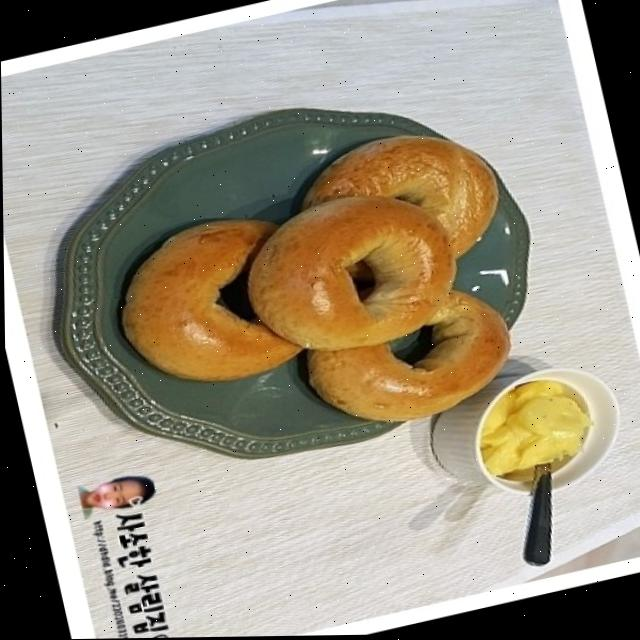Bagel: (247, 198, 454, 351), (119, 220, 298, 381), (308, 292, 508, 422), (301, 137, 497, 257)
